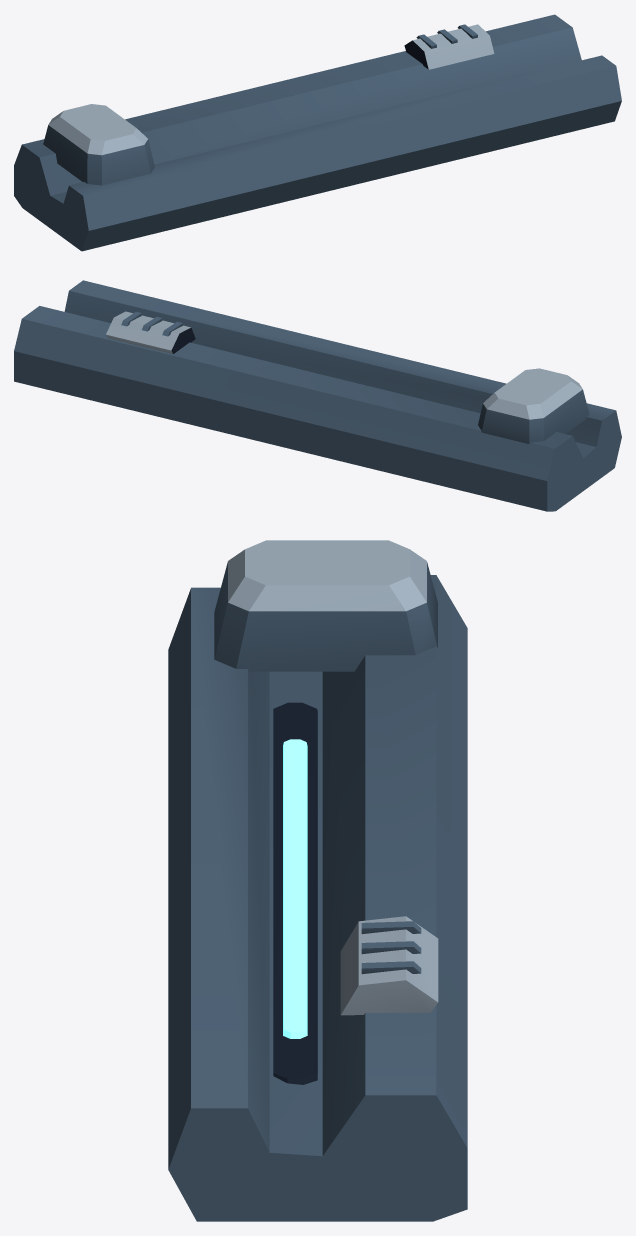
The model's file is field-rail.glb.
3 renders of one model, top to bottom at view 1: azimuth 30°, elevation 25°; view 2: azimuth 150°, elevation 25°; view 3: azimuth 270°, elevation 25°, orthographic. The views are drawn at different scales.
Visible parts, largest first — view 1: field-rail; view 2: field-rail; view 3: field-rail.
Boxes of the visible parts, bbox=[...] form: field-rail: bbox=[14, 14, 621, 251]; field-rail: bbox=[14, 280, 621, 511]; field-rail: bbox=[168, 540, 467, 1221].
Size of the model in its own units: 1.3 by 0.217 by 0.316.
